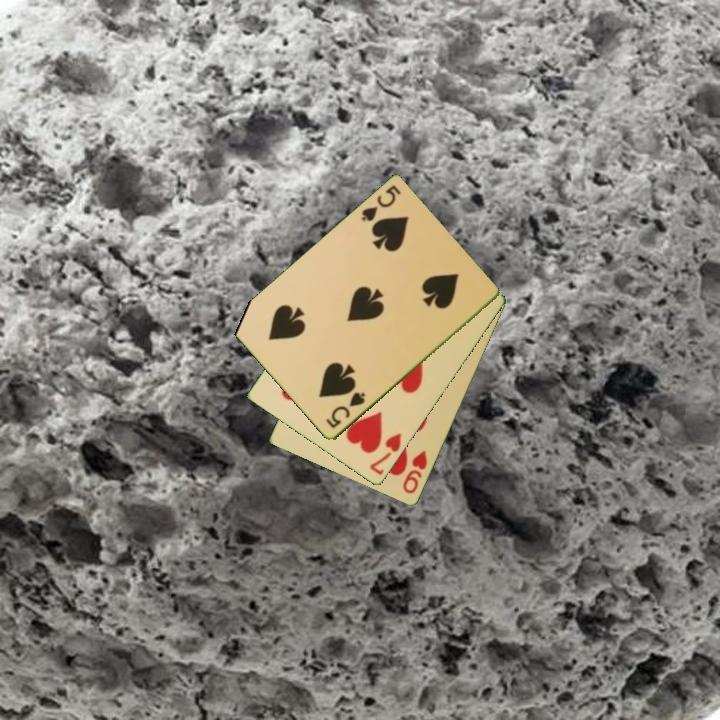5s: (322, 389, 369, 432), (358, 182, 404, 225)
7h: (366, 429, 405, 478)
9h: (399, 447, 430, 497)
